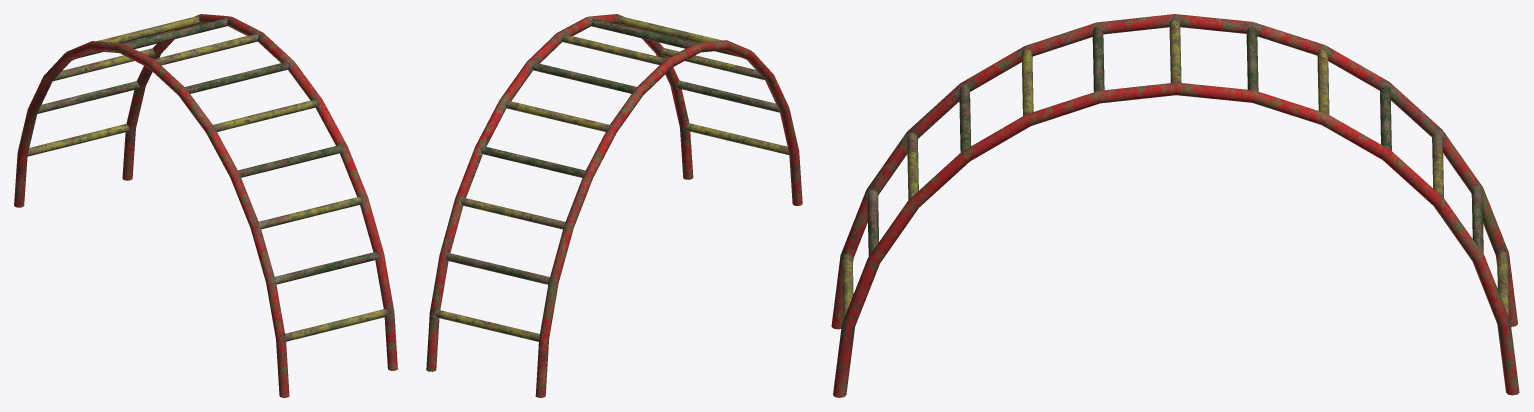
The model's file is playground 1,3.fbx.
3 renders of one model, left to right at view 1: azimuth 30°, elevation 25°; view 2: azimuth 150°, elevation 25°; view 3: azimuth 270°, elevation 25°, orthographic. The views are drawn at different scales.
Visible parts, largest first — view 1: taman 3_LOD0; view 2: taman 3_LOD0; view 3: taman 3_LOD0.
Part boxes in pixels (x1,y1,x2,y2): taman 3_LOD0: (14,14,397,397); taman 3_LOD0: (426,14,802,397); taman 3_LOD0: (831,14,1519,397).
Size of what is drawn, in the model's own units: 48.65 by 92.02 by 184.
